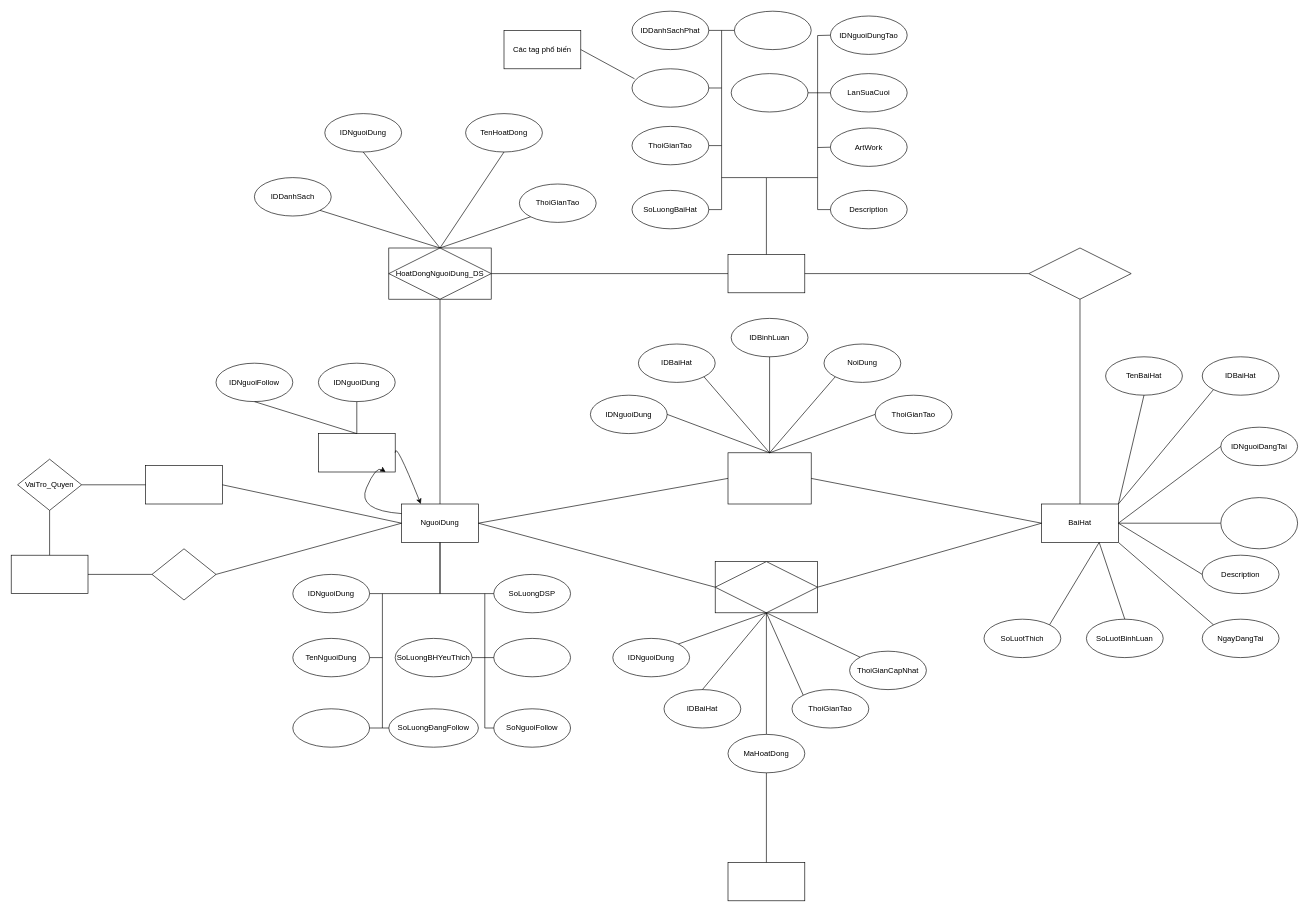
The diagram is 1309 pixels wide and 912 high, and some of its shapes have lost their labels. The centre of each missing label's shape, as x and y in pixels:
BinhLuan: point (769, 478)
Chua: point (1079, 273)
DanhSachPhat: point (766, 273)
DiaChi: point (331, 727)
Follow: point (356, 452)
HoatDong: point (766, 881)
HoatDongNguoiDung_BH: point (766, 587)
ND_Quyen: point (183, 574)
Quyen: point (49, 574)
Tag: point (670, 87)
Ten: point (772, 30)
ThoiGianTaoTK: point (532, 657)
ThoiLuong: point (769, 92)
Thể loại: point (1259, 523)
VaiTro: point (183, 484)
